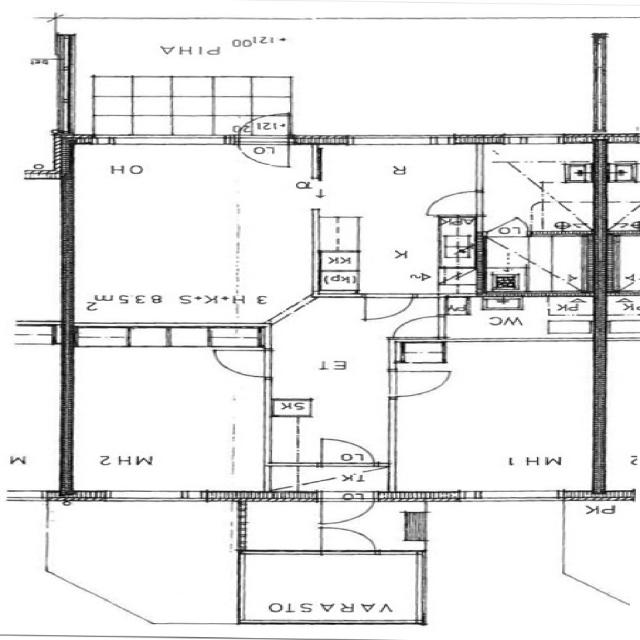door: (233, 552, 429, 623), (233, 112, 294, 170), (314, 492, 378, 527), (312, 436, 381, 468), (209, 346, 275, 378), (387, 368, 455, 398), (369, 302, 429, 336), (418, 188, 488, 216), (314, 525, 379, 554), (357, 291, 417, 322), (388, 314, 448, 341)
window: (91, 132, 229, 150), (344, 132, 452, 150), (460, 488, 569, 505), (100, 489, 203, 504), (241, 546, 325, 558), (500, 132, 570, 146)
zone: (66, 142, 282, 330), (66, 330, 269, 495), (390, 341, 602, 496), (313, 144, 479, 298), (45, 500, 244, 628), (236, 553, 426, 623), (314, 147, 487, 215), (478, 142, 598, 235), (440, 296, 596, 342), (483, 234, 598, 294), (270, 464, 394, 492), (604, 142, 638, 230), (612, 233, 640, 293)
